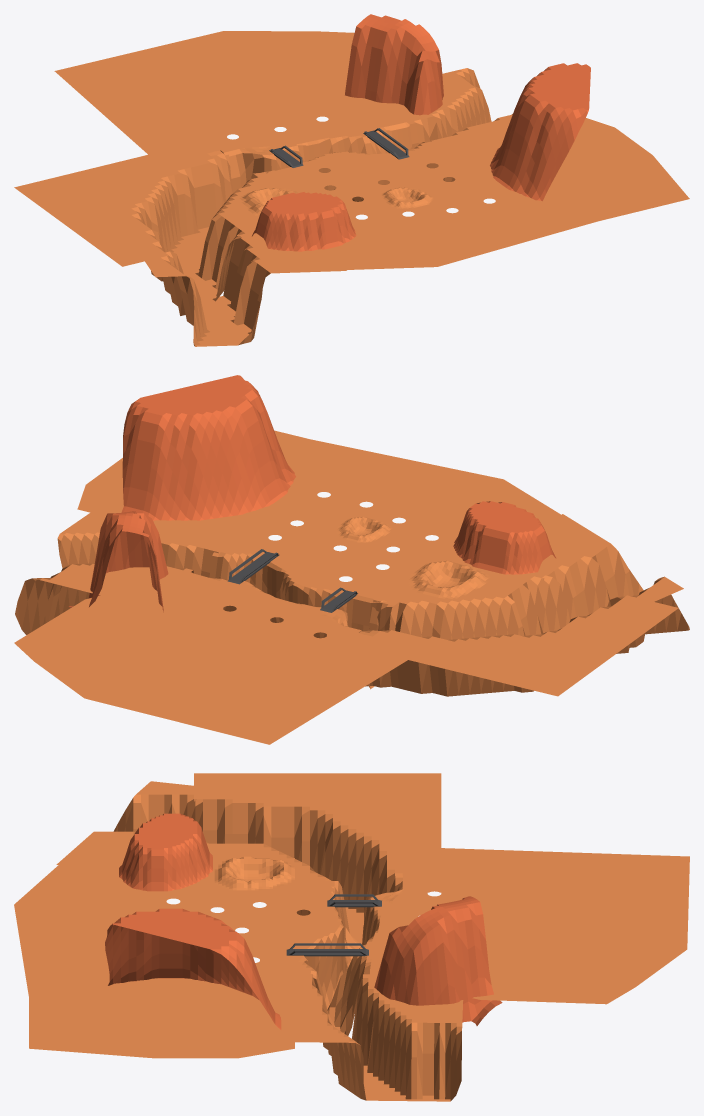
The model's file is red_planet.fbx.
The picture shows the model from 3 angles, top to bottom: view 1: azimuth 30°, elevation 25°; view 2: azimuth 150°, elevation 25°; view 3: azimuth 270°, elevation 25°; orthographic projection. The views are drawn at different scales.
Visible parts, largest first — view 1: Plane.009, Plane.001, Plane.004, Plane.016, Plane.011, Plane.008, Plane, Plane.012, Plane.006, Plane.002, Plane.003; view 2: Plane.001, Plane.009, Plane.004, Plane.016, Plane.012, Plane.011, Plane, Plane.006, Plane.008, Plane.003, Plane.002; view 3: Plane.009, Plane.001, Plane.004, Plane.012, Plane.008, Plane.016, Plane, Plane.006, Plane.011, Plane.003, Cube.045, Cube.001.
Part boxes in pixels (bbox=[...]): Plane.009: bbox=[249, 118, 689, 269]; Plane.001: bbox=[54, 31, 406, 159]; Plane.004: bbox=[14, 150, 293, 305]; Plane.016: bbox=[490, 63, 590, 201]; Plane.011: bbox=[145, 234, 346, 346]; Plane.008: bbox=[345, 14, 443, 115]; Plane: bbox=[220, 117, 451, 201]; Plane.012: bbox=[383, 68, 512, 181]; Plane.006: bbox=[252, 192, 356, 251]; Plane.002: bbox=[368, 178, 442, 213]; Plane.003: bbox=[230, 182, 303, 217]; Plane.001: bbox=[14, 577, 416, 744]; Plane.009: bbox=[77, 430, 583, 596]; Plane.004: bbox=[327, 550, 678, 696]; Plane.016: bbox=[121, 375, 295, 520]; Plane.012: bbox=[15, 508, 227, 634]; Plane.011: bbox=[535, 514, 689, 653]; Plane: bbox=[182, 538, 398, 689]; Plane.006: bbox=[453, 501, 556, 574]; Plane.008: bbox=[69, 511, 168, 612]; Plane.003: bbox=[392, 557, 496, 602]; Plane.002: bbox=[310, 512, 400, 549]; Plane.009: bbox=[14, 847, 323, 1058]; Plane.001: bbox=[373, 847, 689, 1004]; Plane.004: bbox=[194, 773, 441, 947]; Plane.012: bbox=[281, 974, 463, 1101]; Plane.008: bbox=[374, 896, 502, 1025]; Plane.016: bbox=[105, 908, 281, 1029]; Plane: bbox=[275, 880, 408, 1035]; Plane.006: bbox=[119, 813, 212, 891]; Plane.011: bbox=[56, 781, 202, 864]; Plane.003: bbox=[214, 856, 294, 891]; Cube.045: bbox=[298, 943, 357, 956]; Cube.001: bbox=[327, 894, 381, 907].
Bounding box in the file's own units: 7268 × 1862 × 7288.
